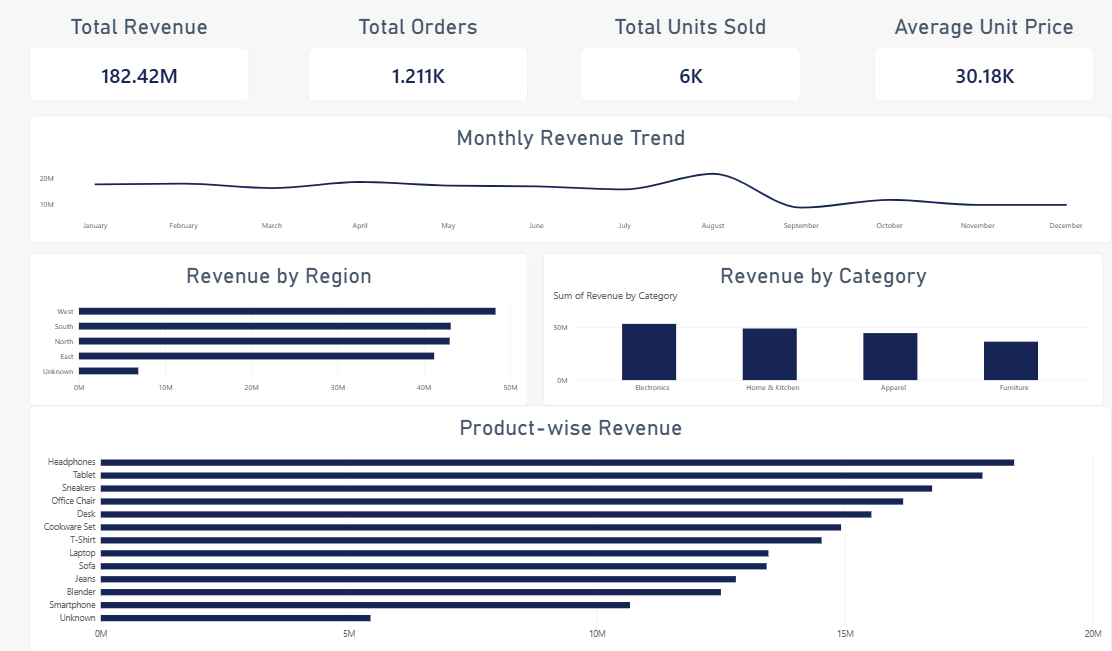

The page's visual inventory and layout, read from the dashboard file:
{"tool":"powerbi","page":{"name":"Page 1","canvas":[1920,1080],"ordinal":0},"visuals":[{"type":"cardVisual","title":"Total Revenue","fields":{"Data":["Sum(cleaned_sales_data.Revenue)"]},"box":[51.5,26.8,362.3,144.1],"z":0},{"type":"cardVisual","title":"Total Orders","fields":{"Data":["CountNonNull(cleaned_sales_data.OrderID)"]},"box":[510.5,26.8,362.3,144.1],"z":1},{"type":"cardVisual","title":"Total Units Sold","fields":{"Data":["Sum(cleaned_sales_data.UnitsSold)"]},"box":[959.2,26.8,362.3,144.1],"z":2},{"type":"cardVisual","title":"Average Unit Price","fields":{"Data":["Avg(cleaned_sales_data.UnitPrice)"]},"box":[1442.9,26.8,362.3,144.1],"z":3},{"type":"lineChart","title":"Monthly Revenue Trend","fields":{"Category":["cleaned_sales_data.OrderDate.Variation.Date Hierarchy.Month"],"Y":["Sum(cleaned_sales_data.Revenue)"]},"box":[51.5,195.5,1782.5,209.9],"z":4},{"type":"clusteredBarChart","title":"Revenue by Region","fields":{"Category":["cleaned_sales_data.Region"],"Y":["Sum(cleaned_sales_data.Revenue)"]},"box":[51.5,422,821.3,251.1],"z":5},{"type":"clusteredColumnChart","title":"Revenue by Category","fields":{"Category":["cleaned_sales_data.Category"],"Y":["Sum(cleaned_sales_data.Revenue)"]},"box":[897.4,422,922.1,251.1],"z":6},{"type":"clusteredBarChart","title":"Product-wise Revenue","fields":{"Category":["cleaned_sales_data.Product"],"Y":["Sum(cleaned_sales_data.Revenue)"]},"box":[51.5,673.1,1782.5,407.5],"z":7}]}

Visuals, with their boxes on the page's 1920x1080 design canvas (x1, y1, x2, y2). These are canvas units, not pixel positions in the 1112x651 screenshot, which may show the page scaled, cropped or inside an application window:
"Total Revenue" cardVisual: left=52, top=27, right=414, bottom=171
"Total Orders" cardVisual: left=510, top=27, right=873, bottom=171
"Total Units Sold" cardVisual: left=959, top=27, right=1322, bottom=171
"Average Unit Price" cardVisual: left=1443, top=27, right=1805, bottom=171
"Monthly Revenue Trend" lineChart: left=52, top=196, right=1834, bottom=405
"Revenue by Region" clusteredBarChart: left=52, top=422, right=873, bottom=673
"Revenue by Category" clusteredColumnChart: left=897, top=422, right=1820, bottom=673
"Product-wise Revenue" clusteredBarChart: left=52, top=673, right=1834, bottom=1081
